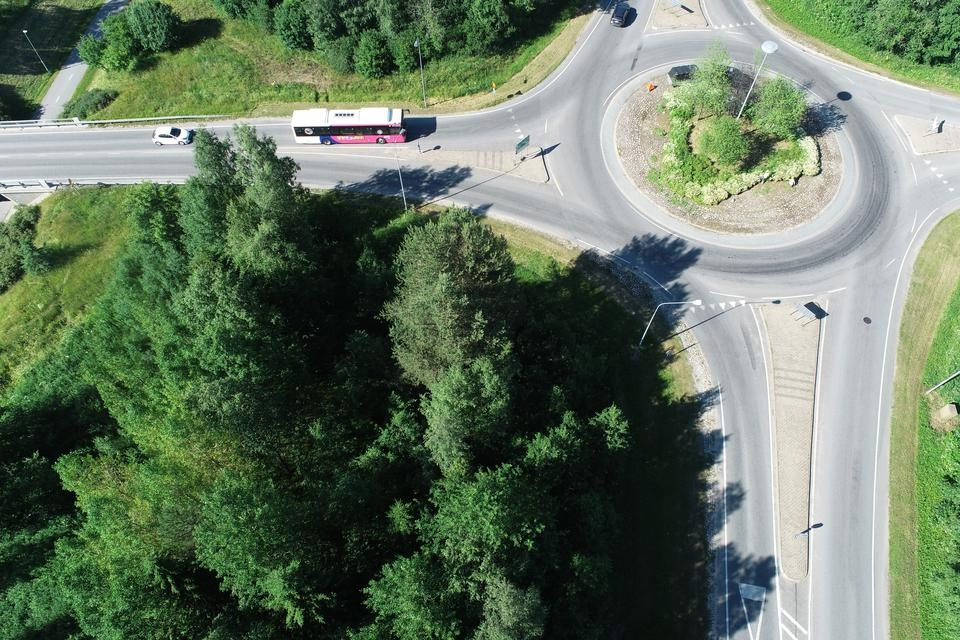roundabout: (483, 0, 947, 337)
